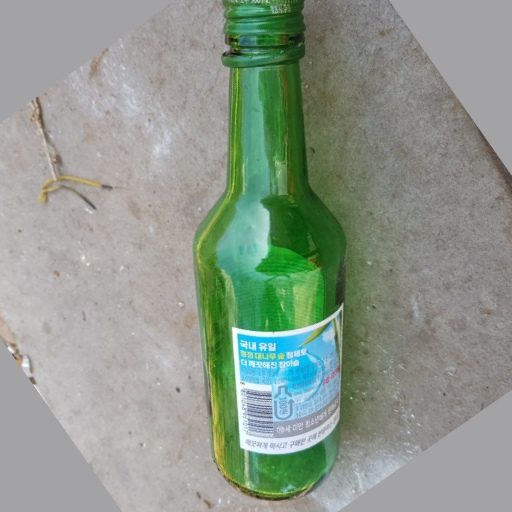Glass_0: (193, 1, 348, 500)
